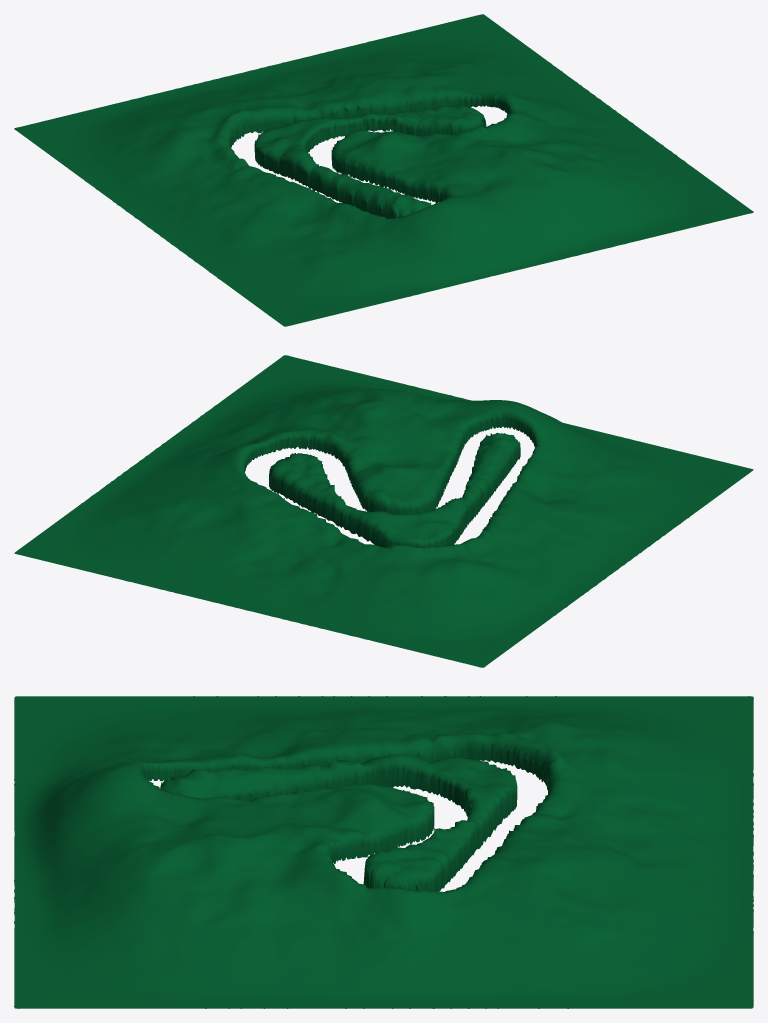
The model's file is HyperLand.1.glb.
3 views of the same model, one above another, from view 1: azimuth 30°, elevation 25°; view 2: azimuth 150°, elevation 25°; view 3: azimuth 270°, elevation 25° (orthographic). The views are drawn at different scales.
Parts seen in each view (by area): view 1: Land; view 2: Land; view 3: Land.
Boxes of the visible parts, box(x1,y1,x2,y2) form: Land: box(14, 14, 753, 326); Land: box(14, 355, 753, 667); Land: box(14, 696, 753, 1008).
Bounding box in the file's own units: 997 × 90.68 × 997.
